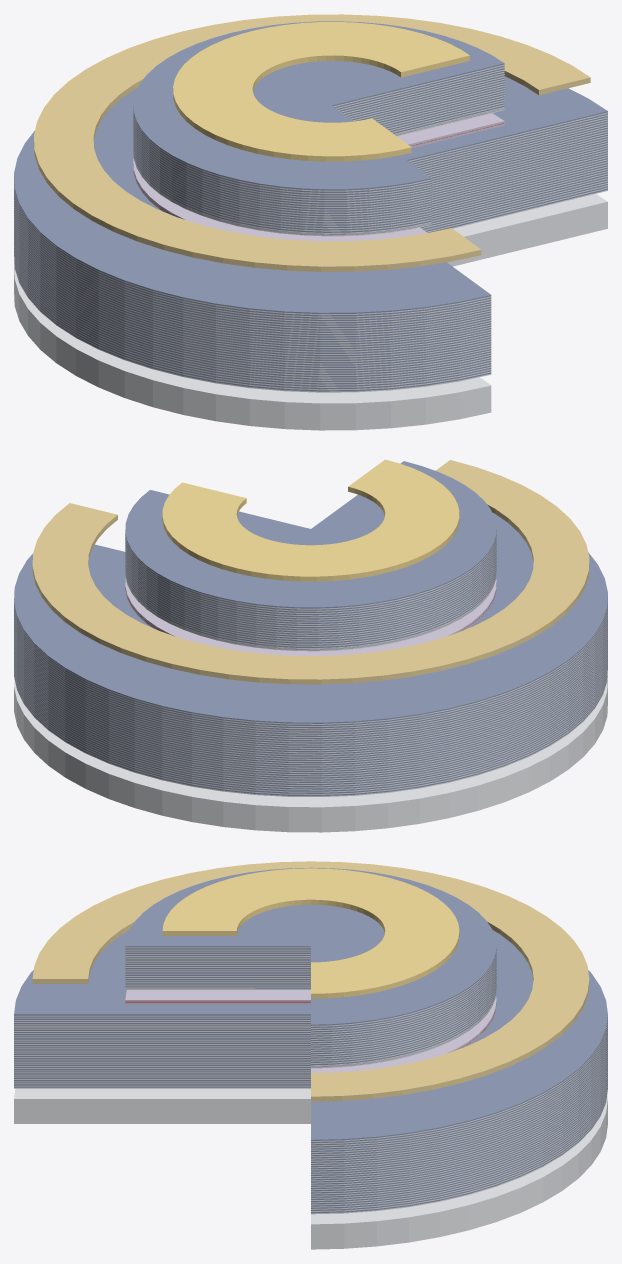
Rendered from stack-vcsel-x.glb.
The picture shows the model from 3 angles, top to bottom: view 1: azimuth 30°, elevation 25°; view 2: azimuth 150°, elevation 25°; view 3: azimuth 270°, elevation 25°; orthographic projection. The views are drawn at different scales.
Parts seen in each view (by area): view 1: dbrl, dbrh, nmetal, gaas, pmetal, cav; view 2: dbrl, dbrh, nmetal, gaas, pmetal, cav; view 3: dbrl, dbrh, nmetal, gaas, pmetal, cav.
Boxes of the visible parts, x1,y1,x2,y2 form: dbrl: [14, 21, 607, 391]; dbrh: [14, 64, 607, 392]; nmetal: [34, 14, 590, 271]; gaas: [14, 194, 607, 430]; pmetal: [173, 22, 469, 161]; cav: [133, 113, 504, 241]; dbrl: [14, 461, 607, 795]; dbrh: [14, 530, 607, 796]; nmetal: [32, 460, 589, 684]; gaas: [14, 676, 607, 832]; pmetal: [162, 459, 459, 581]; cav: [125, 578, 496, 655]; dbrl: [14, 867, 607, 1213]; dbrh: [14, 947, 607, 1214]; nmetal: [32, 861, 589, 1101]; gaas: [14, 1088, 607, 1249]; pmetal: [162, 868, 459, 998]; cav: [125, 990, 496, 1073].
Size of the model in its own units: 32 by 11.47 by 32.
